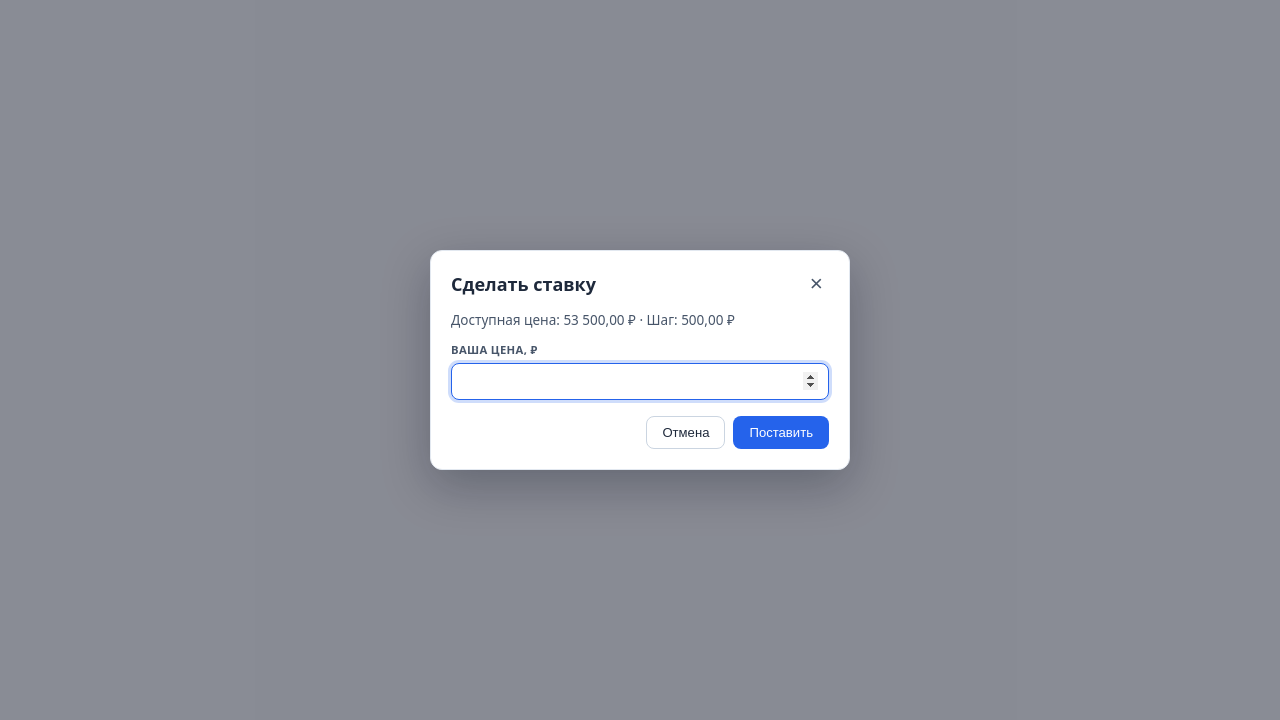
Test: PlaceBetModal — availability & validation › rejects an out-of-range price on the client
In the number field with test id "bet-price": (640, 382) [451, 363, 829, 400], type "39000"
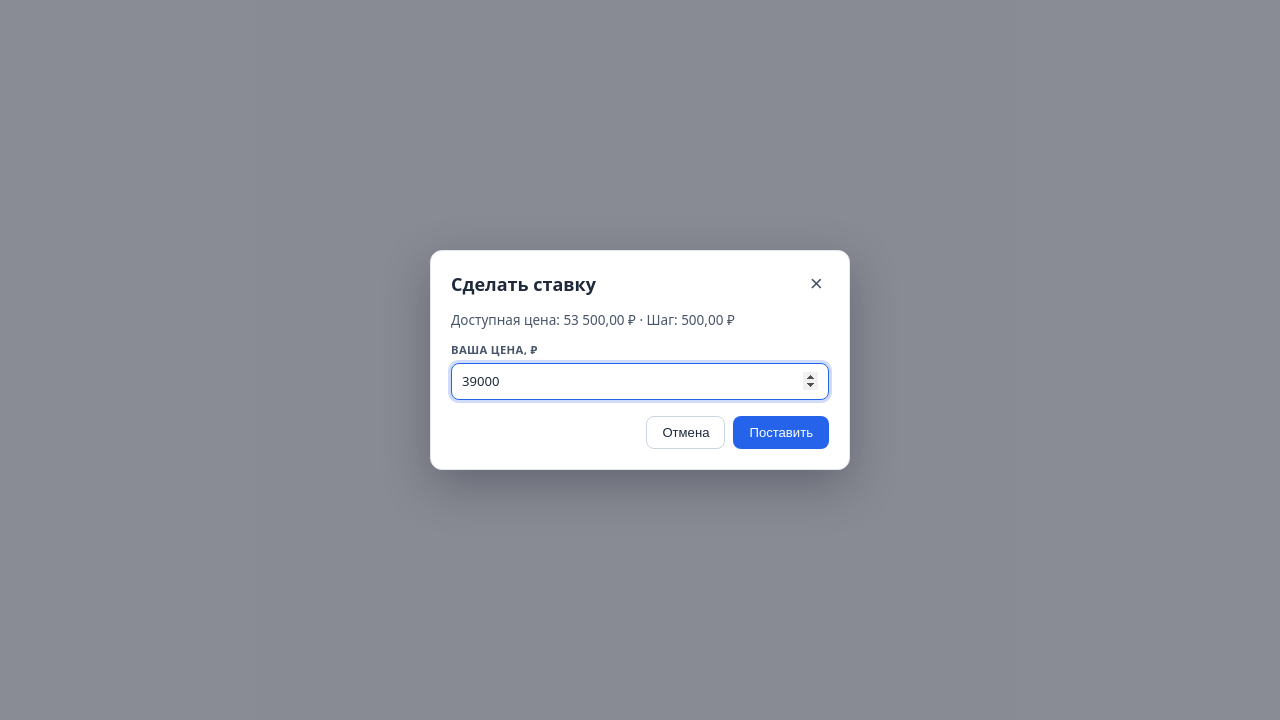
Click the button with test id "bet-submit": (781, 433) [734, 416, 829, 449]
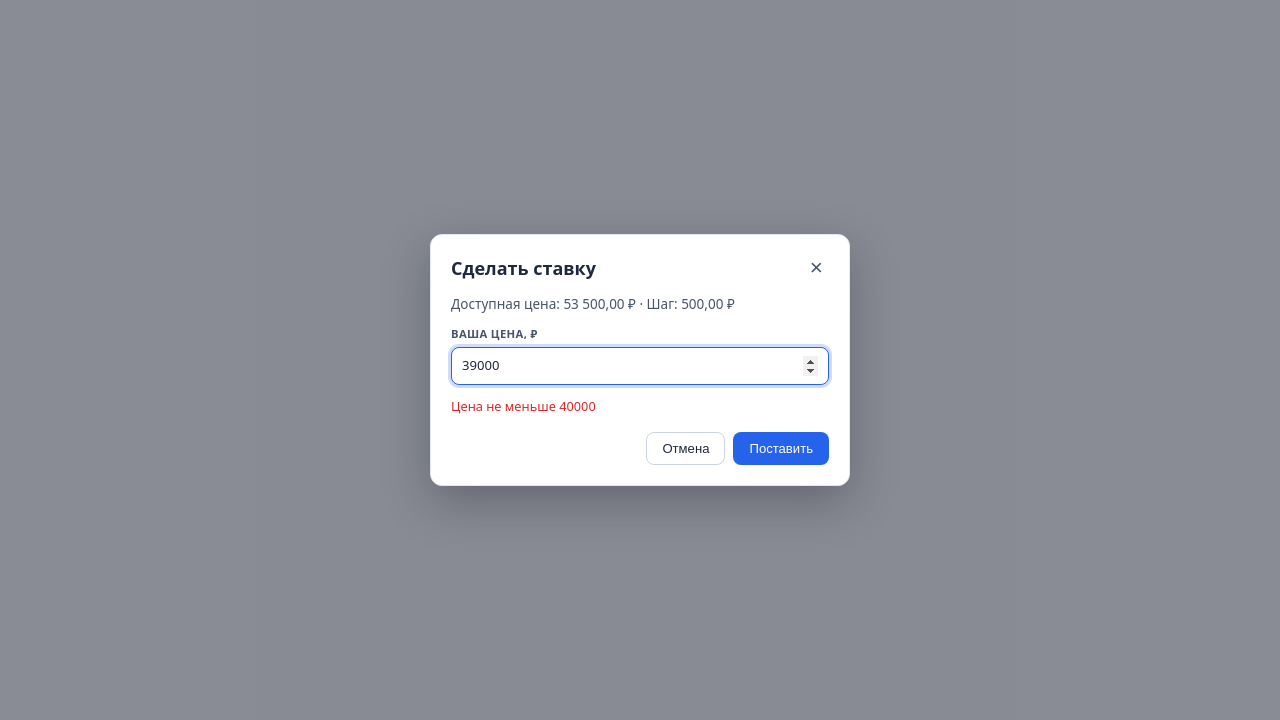
Check: the message "Цена не меньше 40000" is shown, box [451, 397, 596, 415]
